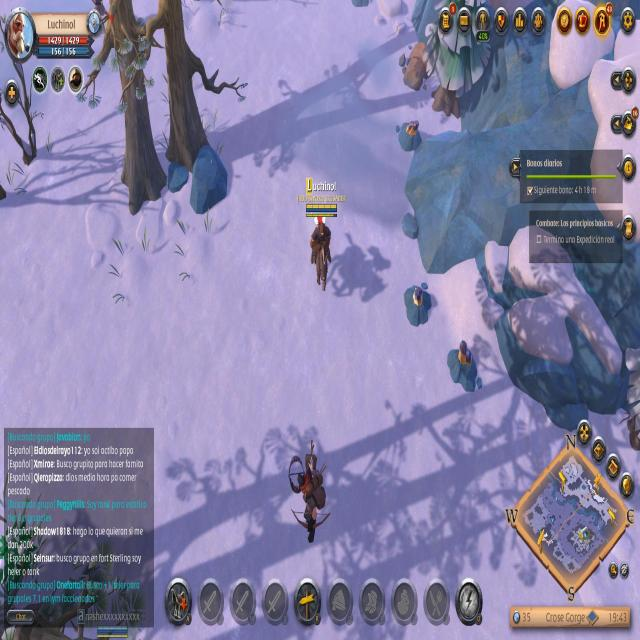piedra_cobre: (448, 340, 480, 392), (404, 283, 428, 327), (397, 120, 421, 152)
